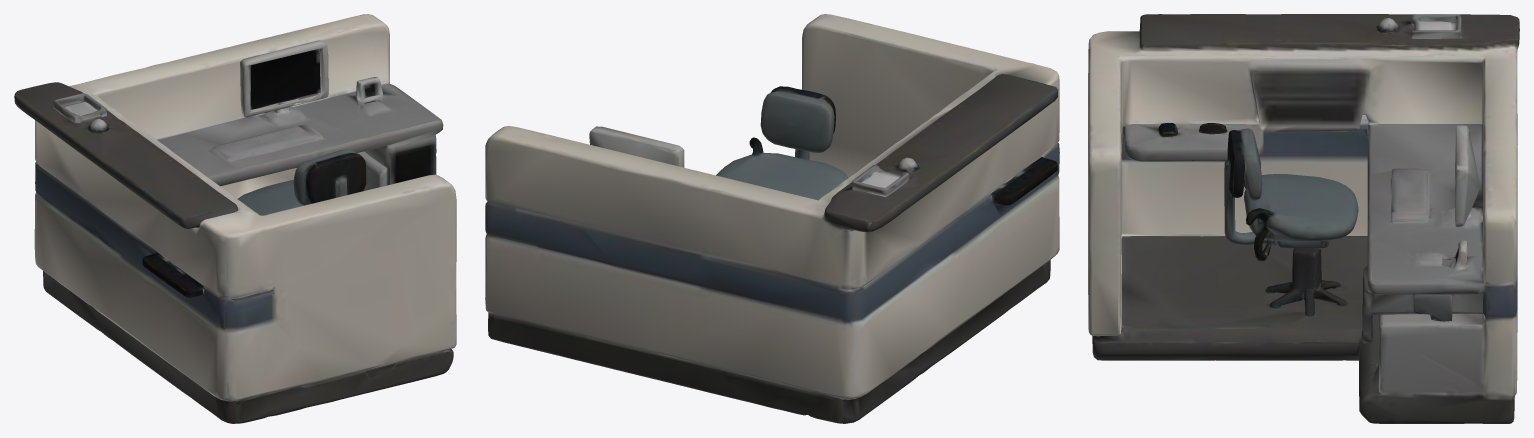
The model's file is reception_desk.glb.
The picture shows the model from 3 angles, left to right: view 1: azimuth 30°, elevation 25°; view 2: azimuth 150°, elevation 25°; view 3: azimuth 270°, elevation 25°; orthographic projection. The views are drawn at different scales.
Visible parts, largest first — view 1: geometry_0; view 2: geometry_0; view 3: geometry_0.
Boxes of the visible parts, x1=… form: geometry_0: x1=14, y1=14, x2=456, y2=423; geometry_0: x1=485, y1=14, x2=1059, y2=423; geometry_0: x1=1088, y1=14, x2=1519, y2=423.
Size of the model in its own units: 1 by 0.5464 by 0.9335.
1 material, 1 textured.
